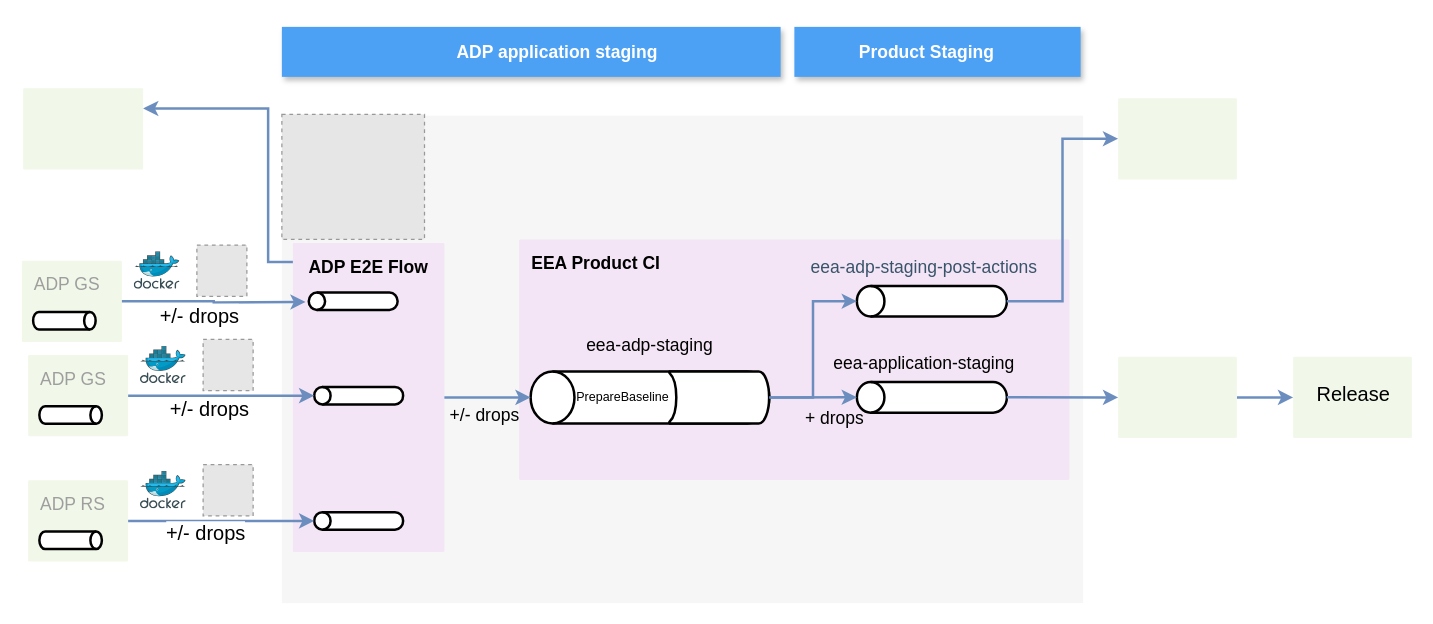
This 1433x624 diagram has some shape labels left out. Grey dashed boxes stand in for pictures. The shapes that lost their labels are listed below. From the top down, each one's centre as x and y in pixels, then its label:
At (x=82, y=128): "ADP CI/CD Dashboard".
At (x=1177, y=138): "Application Dashboard".
At (x=718, y=397): "EEA ADP Staging Install".
At (x=1177, y=396): "Release Verification".
